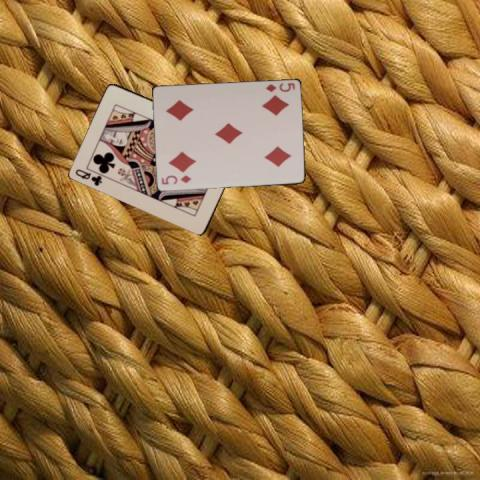5d: (158, 173, 193, 186), (262, 80, 296, 93)
Qc: (73, 166, 104, 187)
